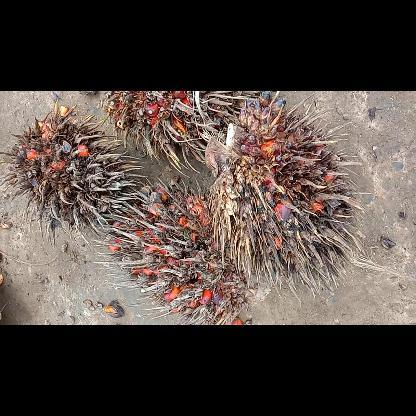Terlalu masak: (200, 92, 368, 302), (92, 172, 274, 324), (0, 97, 148, 253), (91, 90, 277, 182)
